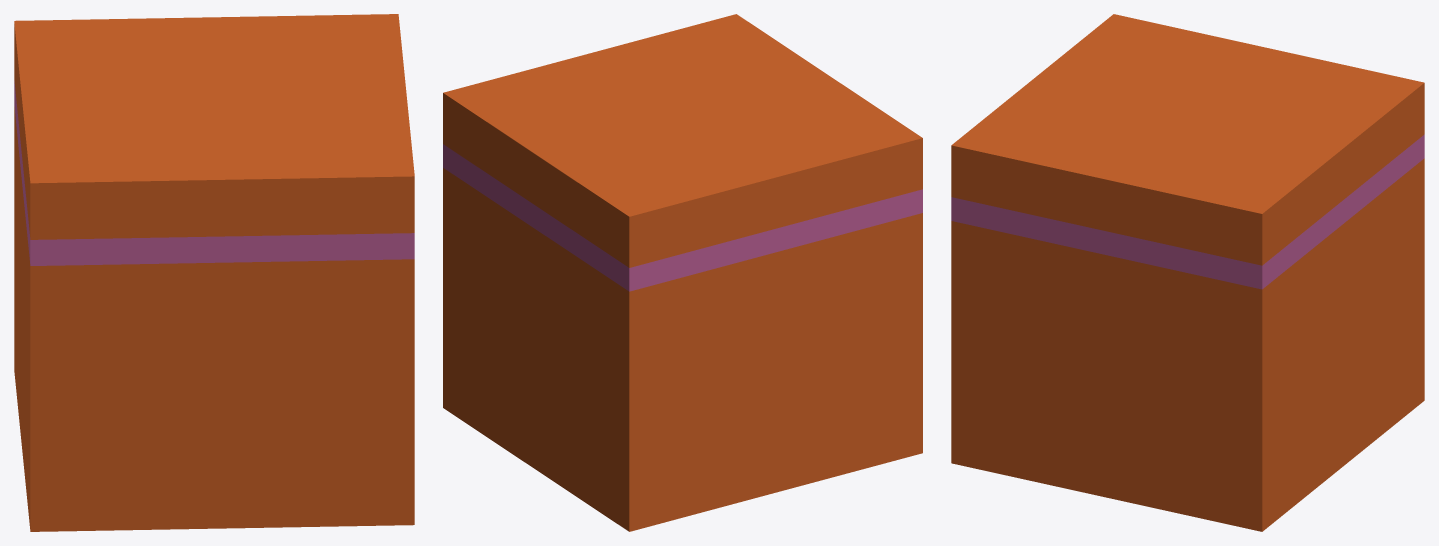
3 renders of one model, left to right at view 1: azimuth 30°, elevation 25°; view 2: azimuth 150°, elevation 25°; view 3: azimuth 270°, elevation 25°, orthographic. The views are drawn at different scales.
Visible parts, largest first — view 1: Box_2; view 2: Box_2; view 3: Box_2.
Part boxes in pixels (x1,y1,x2,y2): Box_2: (14, 14, 414, 531); Box_2: (443, 14, 922, 531); Box_2: (951, 14, 1424, 531).
Size of the model in its own units: 67.47 by 50 by 67.47.
